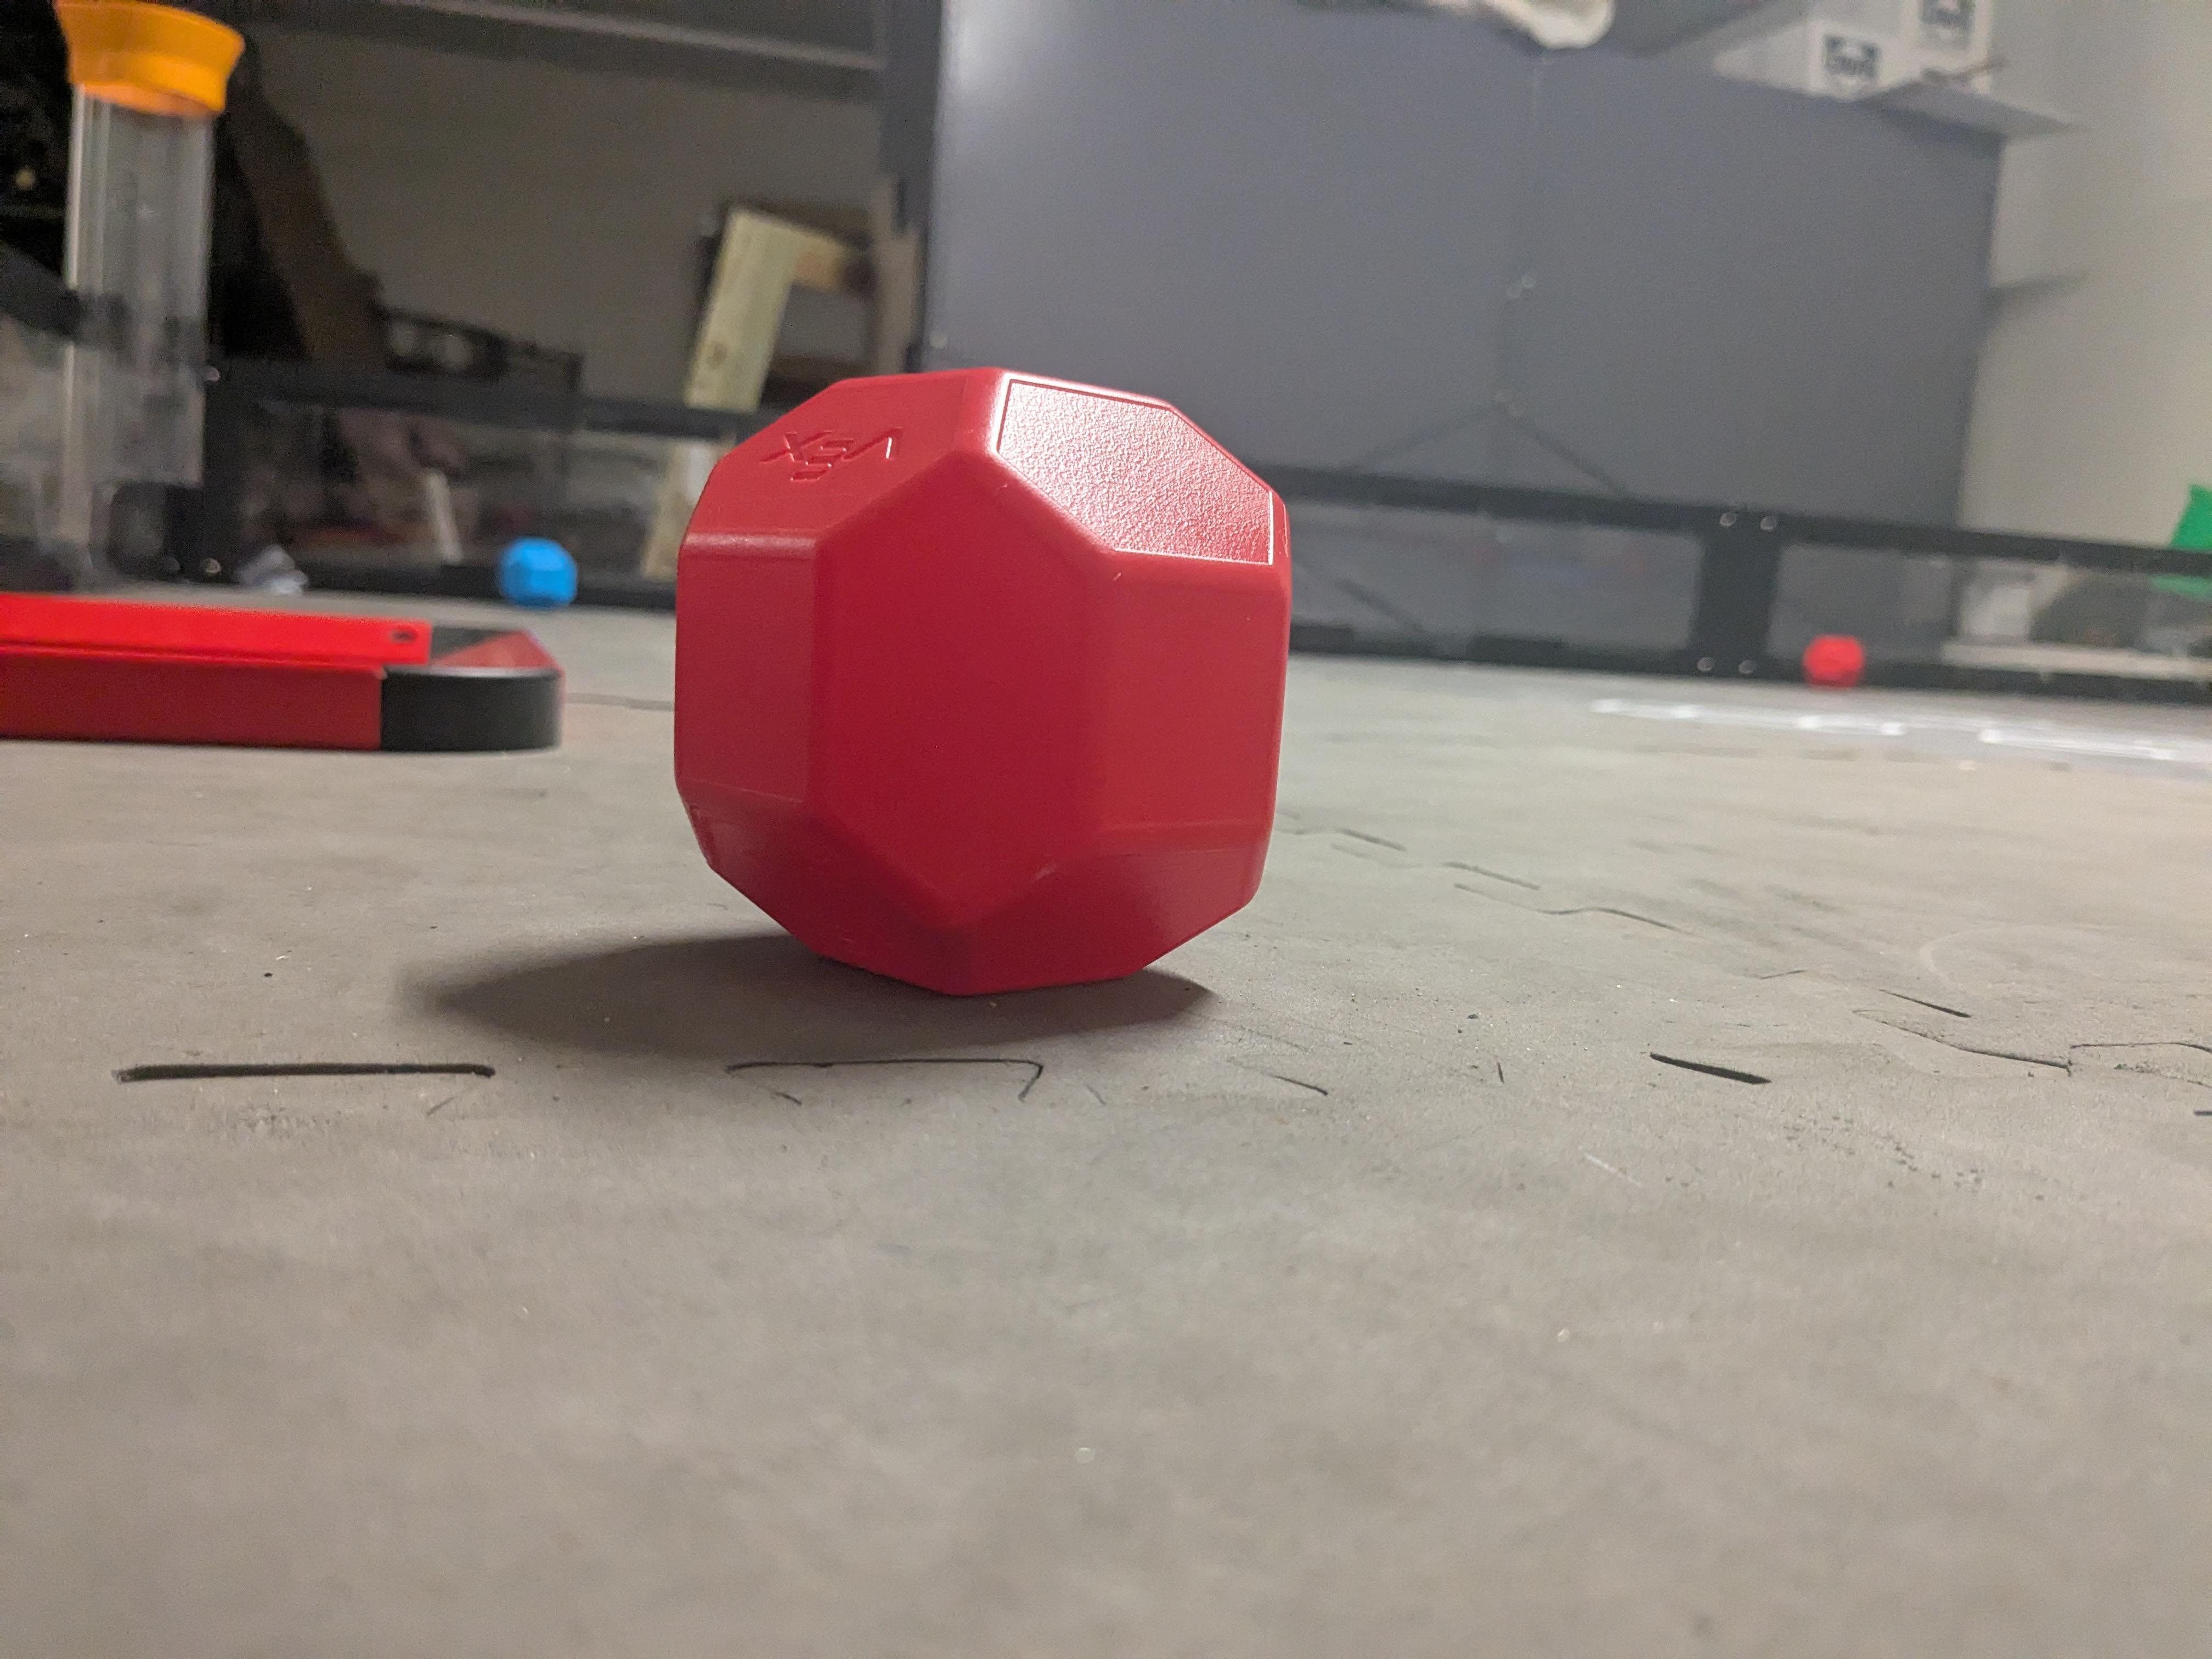Vex-Pieces-RED: (672, 375, 1296, 995)
